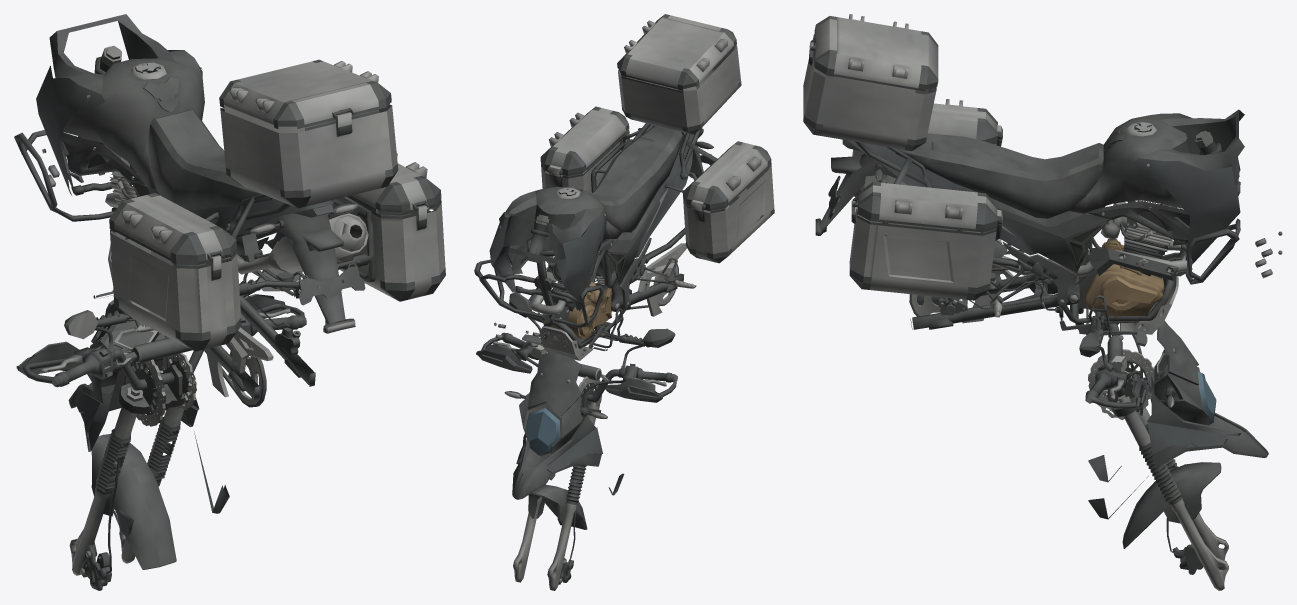
File: AKT_TT200_Matte_Body.fbx
3 renders of one model, left to right at view 1: azimuth 30°, elevation 25°; view 2: azimuth 150°, elevation 25°; view 3: azimuth 270°, elevation 25°, orthographic. The views are drawn at different scales.
Visible parts, largest first — view 1: akt_body, akt_topbox, akt_pannier_l, akt_gastank, akt_handlebar, akt_pannier_r, akt_seat, akt_fork, akt_fender_front, akt_fender_rear, akt_brake_disc_front, akt_brake_disc_rear (+1 smaller); view 2: akt_body, akt_topbox, akt_handlebar, akt_pannier_l, akt_gastank, akt_pannier_r, akt_seat, akt_fork, akt_windshield, akt_fender_front, akt_headlight; view 3: akt_body, akt_topbox, akt_pannier_r, akt_gastank, akt_handlebar, akt_seat, akt_fork, akt_fender_front, akt_pannier_l, akt_fender_rear, akt_windshield, akt_brake_disc_front.
Part boxes in pixels (box(x1,y1,x2,y2)): akt_body: box(14, 45, 375, 407); akt_topbox: box(219, 59, 398, 208); akt_pannier_l: box(109, 193, 241, 351); akt_gastank: box(36, 14, 204, 195); akt_handlebar: box(16, 268, 306, 535); akt_pannier_r: box(332, 153, 445, 301); akt_seat: box(143, 110, 272, 234); akt_fork: box(69, 378, 191, 586); akt_fender_front: box(91, 434, 176, 569); akt_fender_rear: box(251, 213, 365, 333); akt_brake_disc_front: box(123, 349, 166, 426); akt_brake_disc_rear: box(162, 353, 196, 410); akt_body: box(474, 90, 717, 360); akt_topbox: box(617, 14, 741, 134); akt_handlebar: box(476, 292, 677, 499); akt_pannier_l: box(682, 141, 774, 263); akt_gastank: box(489, 187, 610, 310); akt_pannier_r: box(540, 106, 629, 193); akt_seat: box(590, 136, 691, 227); akt_fork: box(513, 402, 598, 590); akt_windshield: box(528, 353, 581, 415); akt_fender_front: box(528, 484, 587, 529); akt_headlight: box(525, 408, 560, 456); akt_body: box(842, 125, 1282, 346); akt_topbox: box(803, 14, 938, 151); akt_pannier_r: box(849, 182, 1002, 300); akt_gastank: box(1099, 109, 1244, 263); akt_handlebar: box(1079, 250, 1268, 519); akt_seat: box(897, 133, 1103, 198); akt_fork: box(1117, 395, 1228, 590); akt_fender_front: box(1122, 462, 1221, 548); akt_pannier_l: box(852, 99, 1002, 197); akt_fender_rear: box(815, 153, 896, 235); akt_windshield: box(1157, 321, 1198, 385); akt_brake_disc_front: box(1088, 349, 1154, 408).
Size of the model in its own units: 9.36 by 21.39 by 17.
